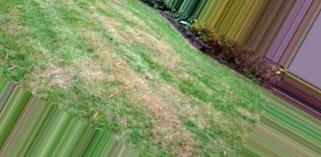patch: (138, 85, 173, 135), (115, 21, 153, 50), (102, 55, 131, 82), (48, 64, 63, 77)
